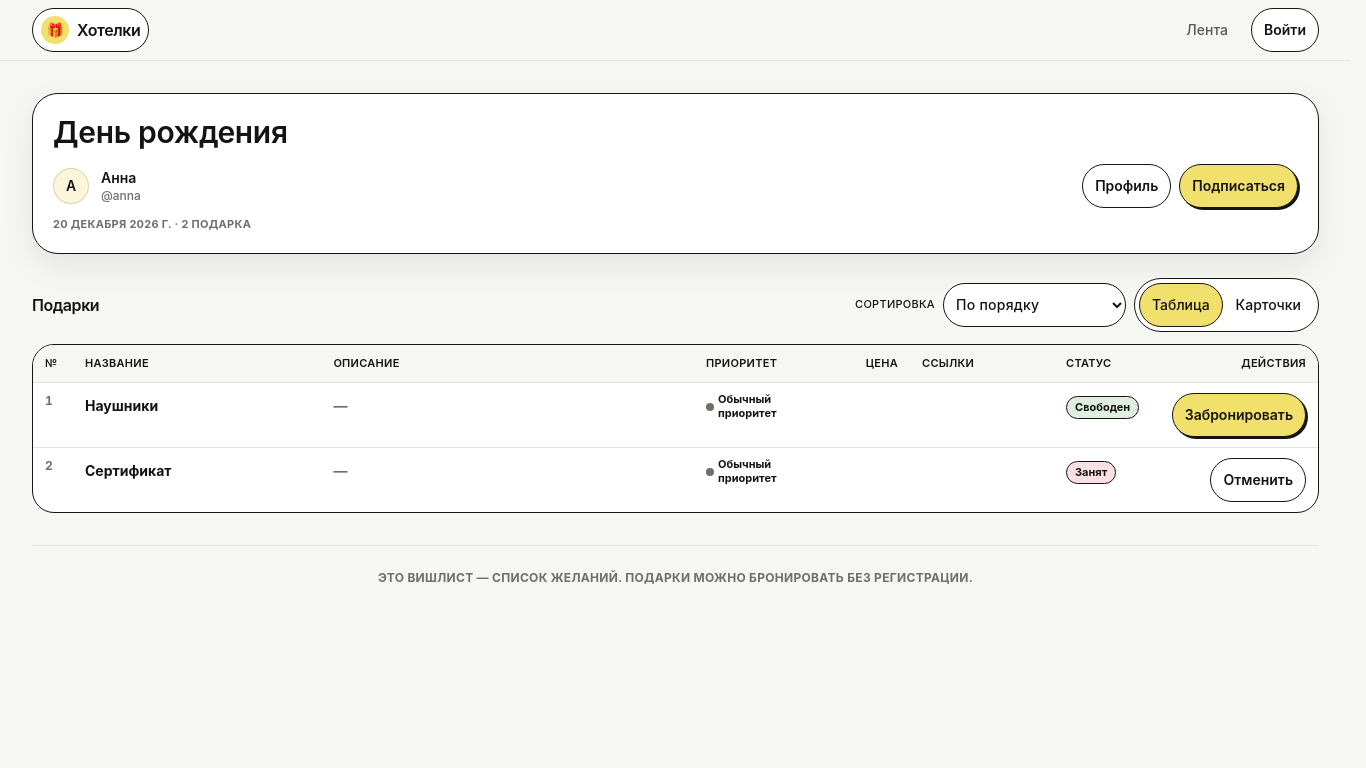
Test: публичная страница вишлиста › бронирует подарок, показывает сообщение и не раскрывает имя бронирующего
Expected: the text "Наушники" is shown, [85,397,158,414]
Click the button "Забронировать" at (1239, 415), box [1172,393,1306,437]
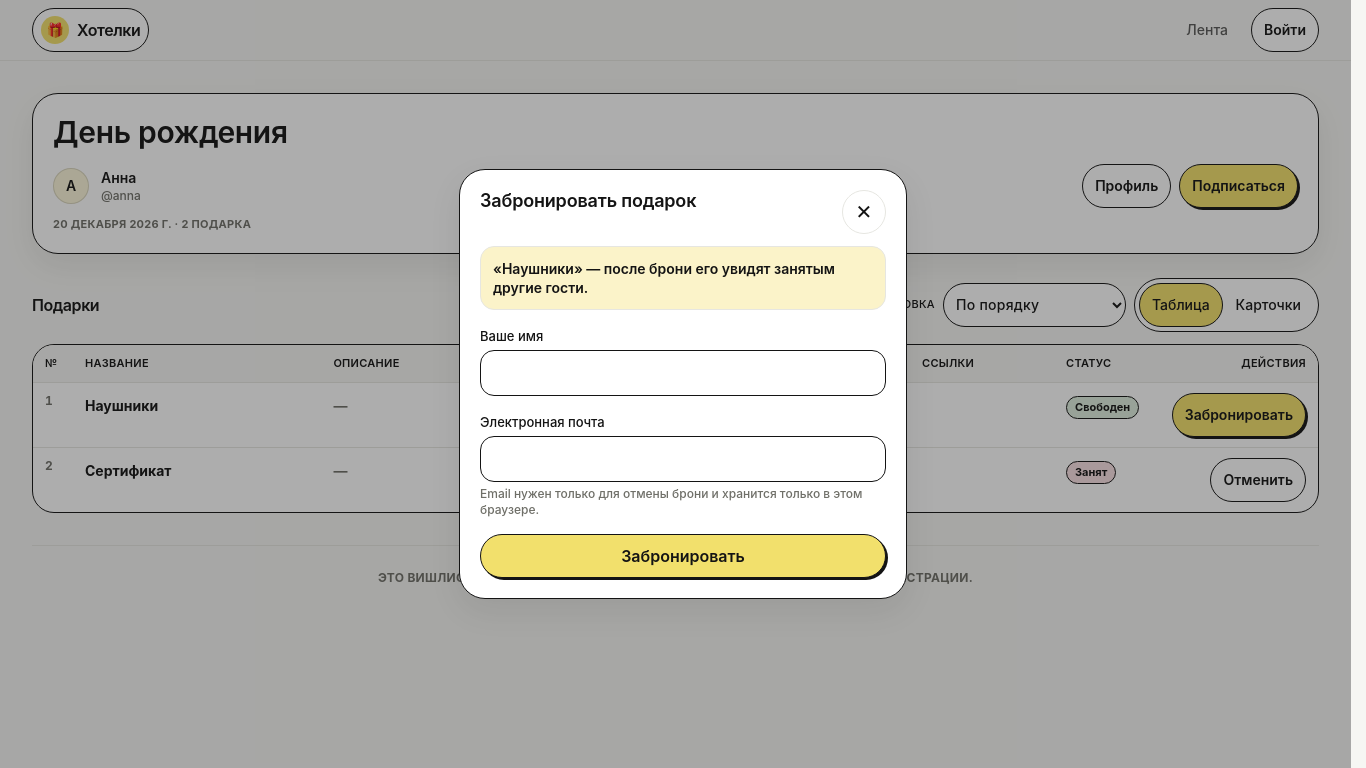
Expected: the heading "Забронировать подарок" is shown, [480,190,696,211]
Type "Пётр" into the field labelled "Ваше имя" at (683, 373), box [480,350,886,396]
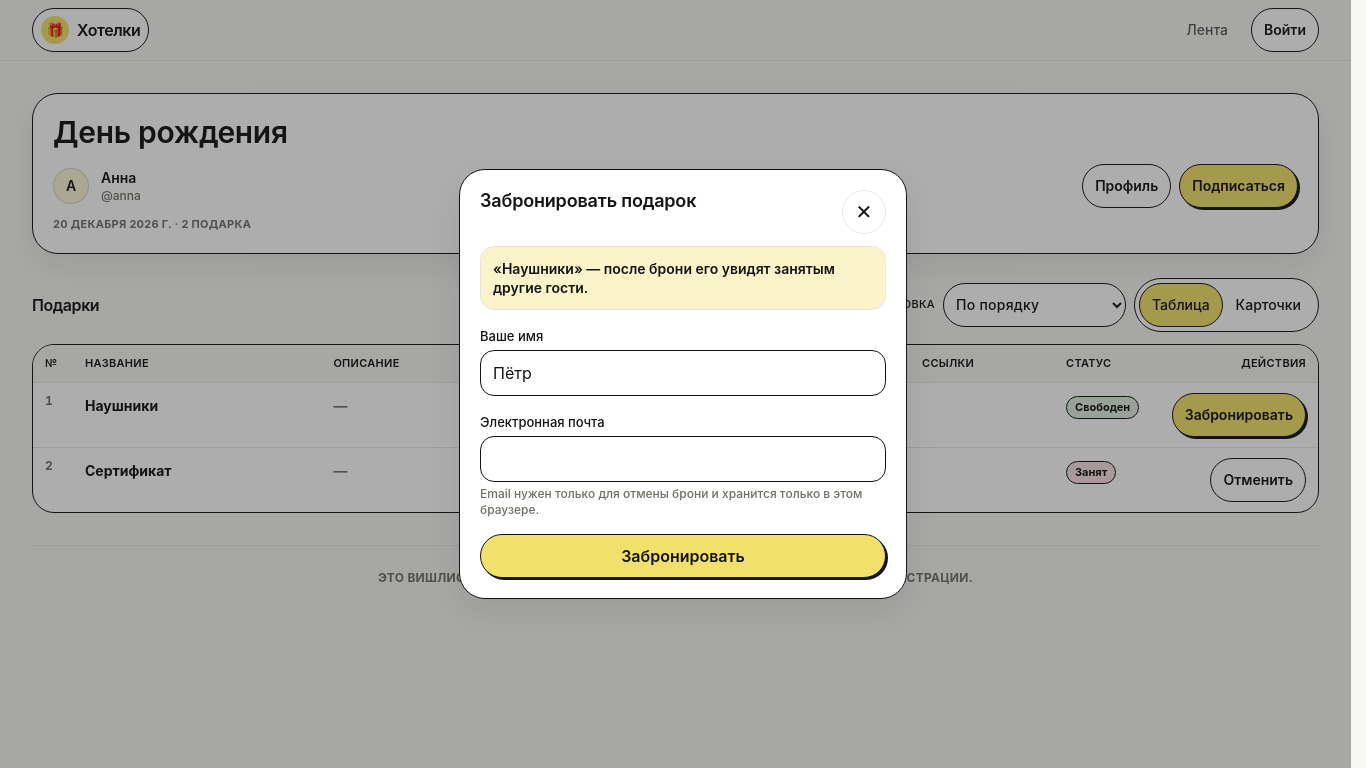
Type "petr@example.com" into the field labelled "Электронная почта" at (683, 459), box [480,436,886,482]
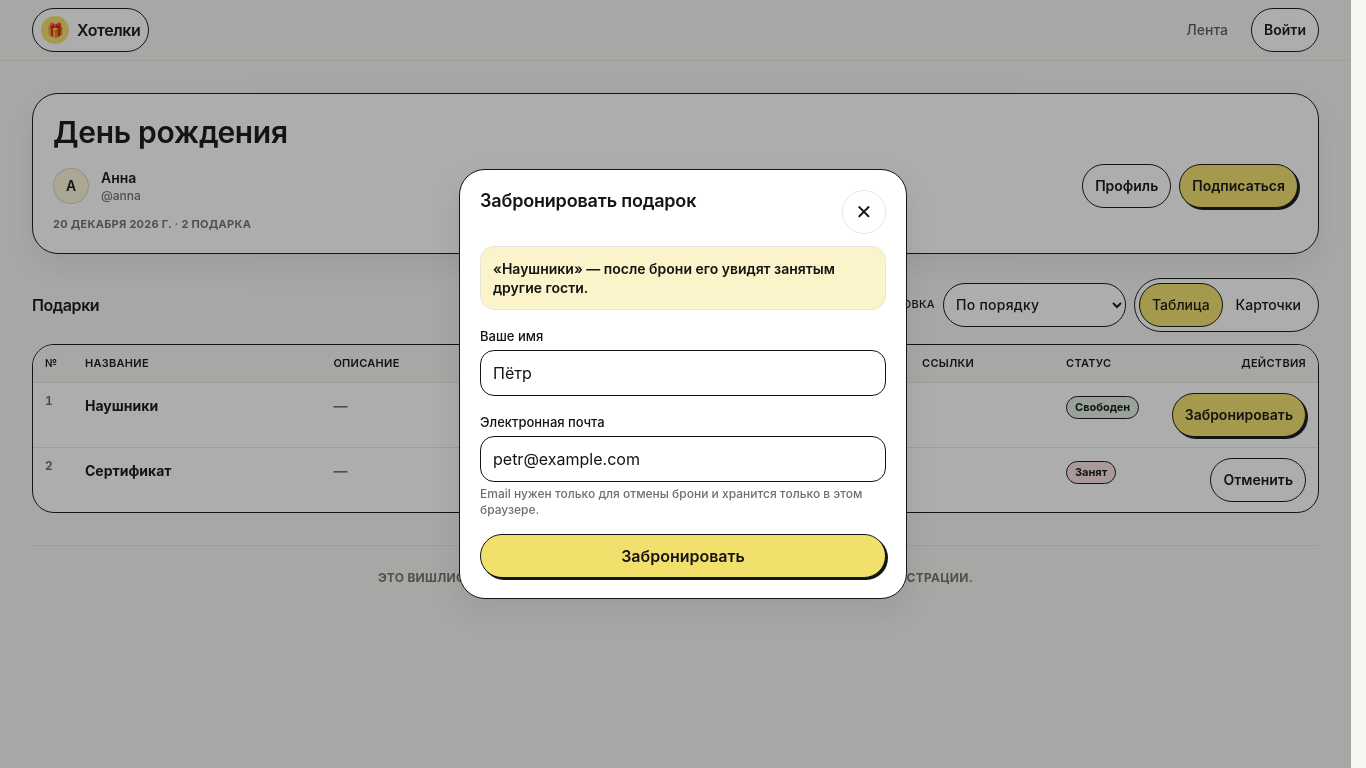
Click the button "Забронировать" at (683, 556), box [480,534,886,578]
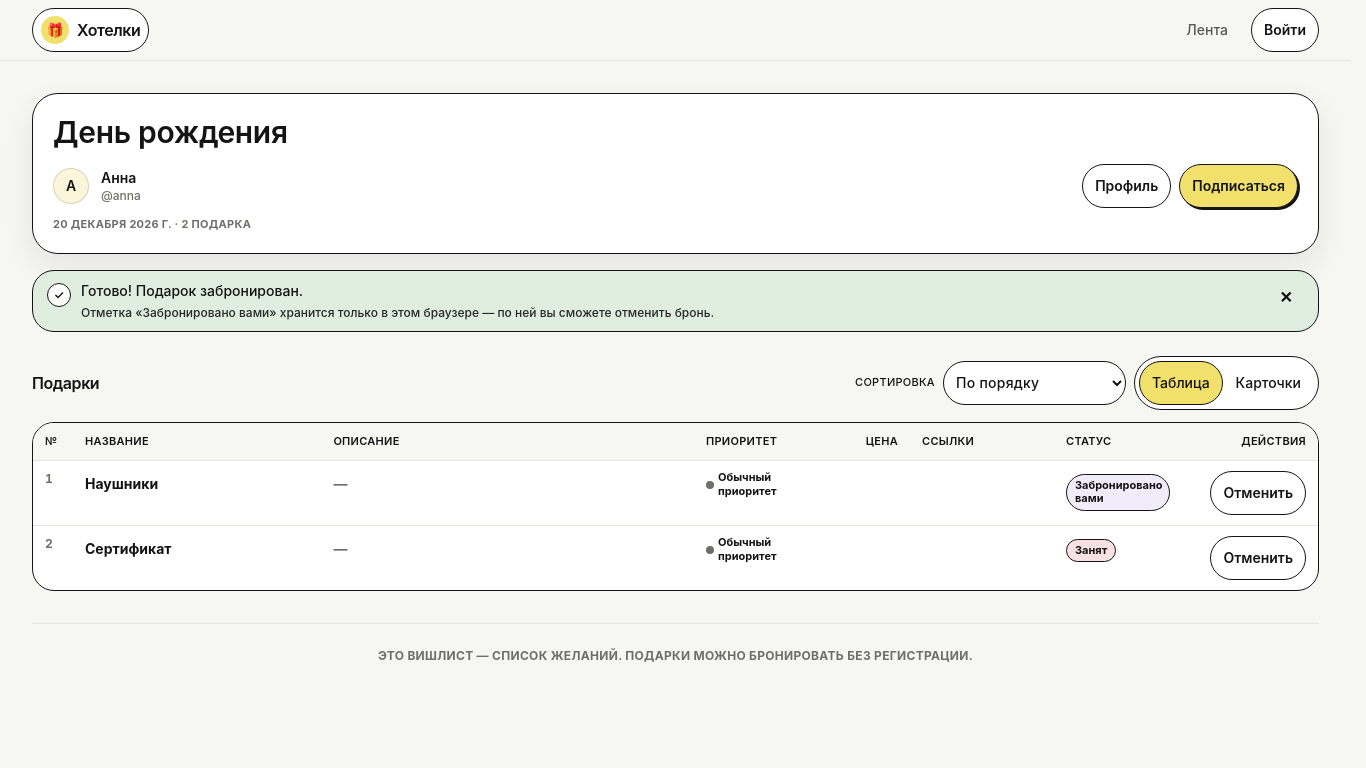
Expected: the text "Готово! Подарок забронирован." is shown, [81,282,303,298]
